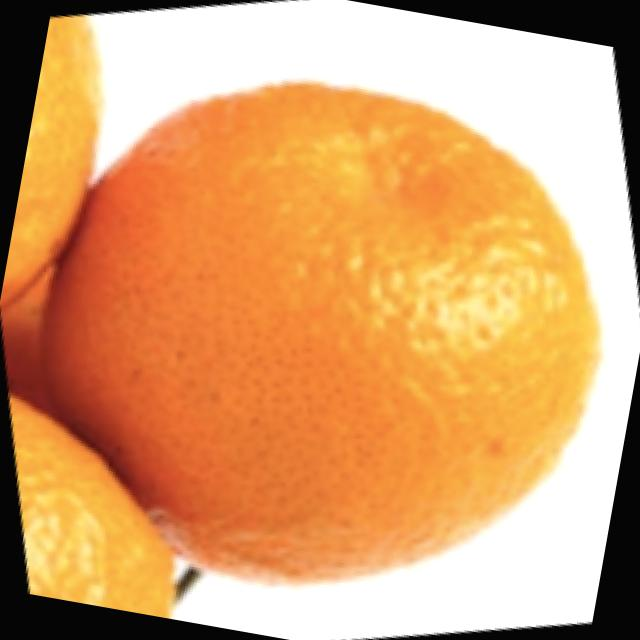orange: (8, 52, 640, 640)
